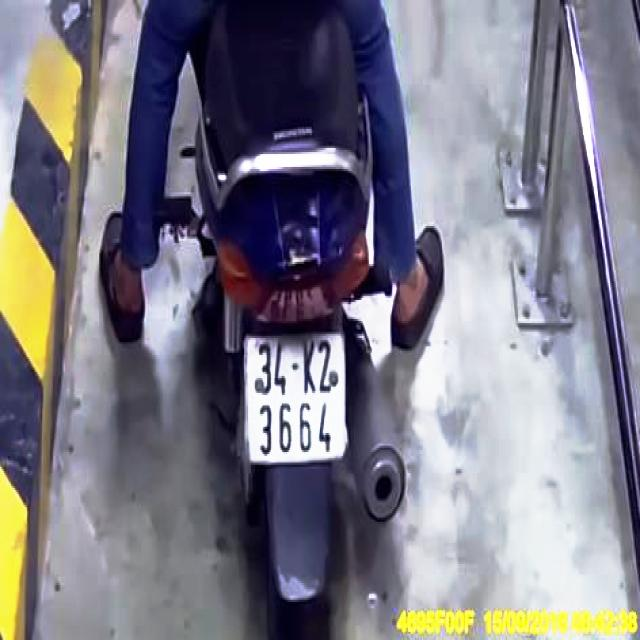license_plate: (246, 335, 345, 465)
